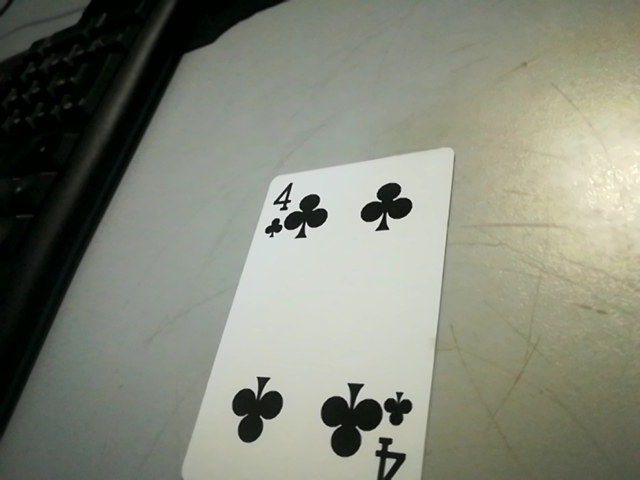mh 4: (373, 385, 421, 480)
